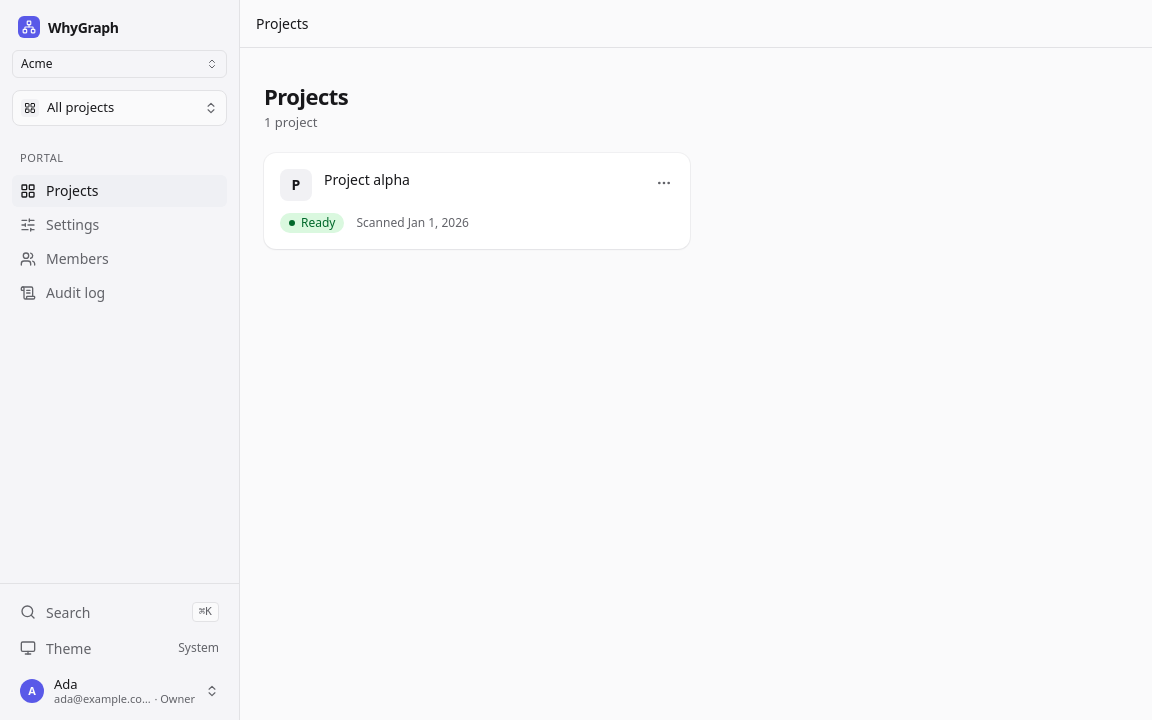
Test case: needsGitHubToImport › hides Import a repository in a password owner's project switcher
Click the button with aria-label "Switch project" at coordinates (120, 108), box [12, 90, 227, 126]
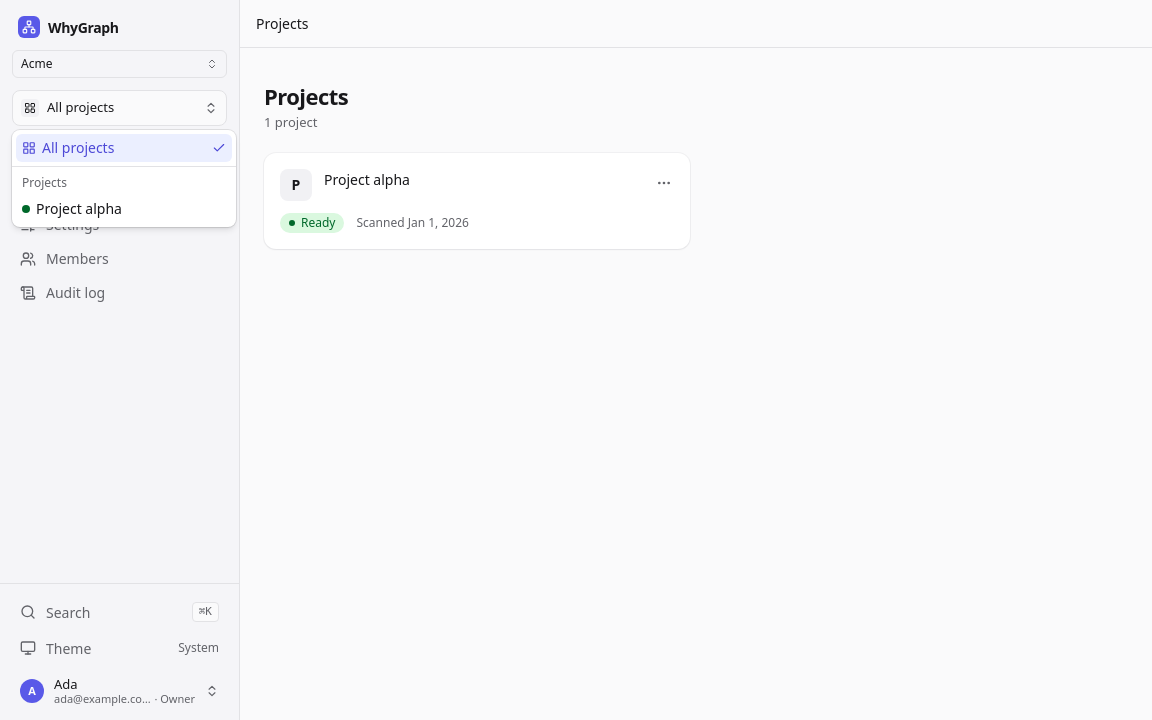
Expected: the menu item "Project alpha" is shown, [21, 199, 122, 227]
